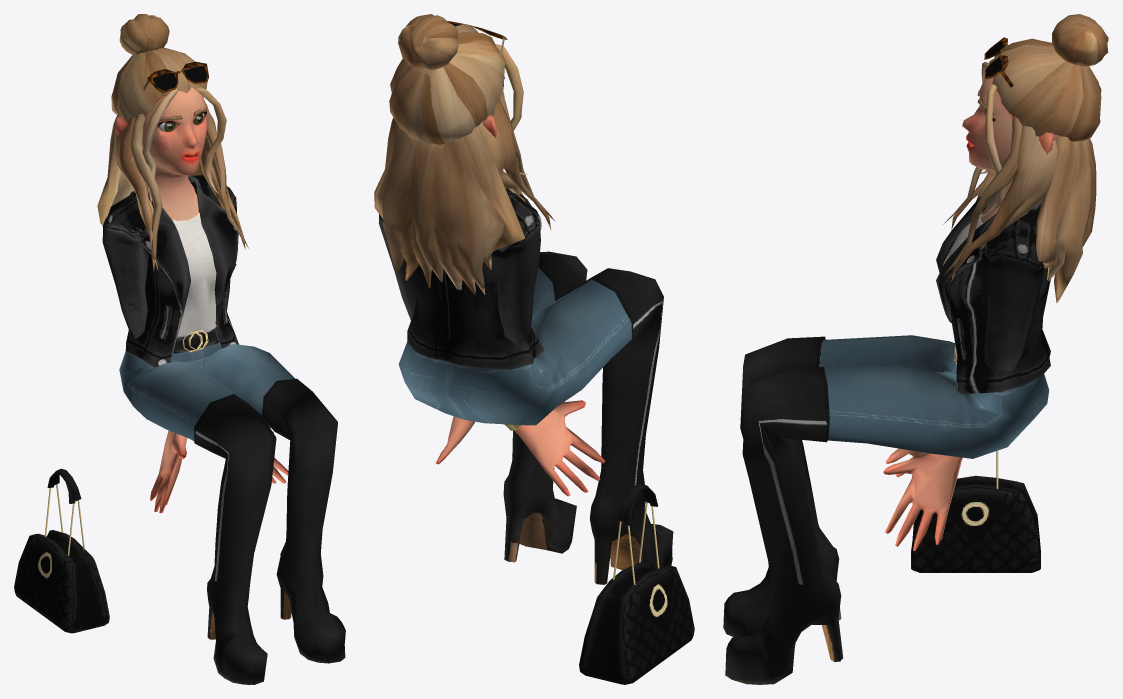
File: michal_receptionist.glb
3 views of the same model, side by side, from view 1: azimuth 30°, elevation 25°; view 2: azimuth 150°, elevation 25°; view 3: azimuth 270°, elevation 25° (orthographic). The views are drawn at different scales.
Visible parts, largest first — view 1: bag_geo; view 2: bag_geo; view 3: bag_geo.
Boxes of the visible parts, box(x1,y1,x2,y2) form: bag_geo: box(14, 14, 345, 684); bag_geo: box(374, 14, 694, 684); bag_geo: box(723, 14, 1108, 684).
Bounding box in the file's own units: 0.5465 × 1.34 × 0.7321.
Materials: 1 (1 with a texture image).
